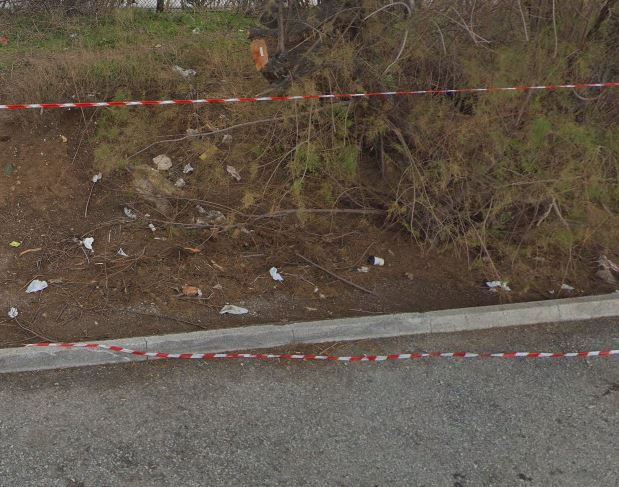trash: (247, 31, 276, 72), (479, 272, 514, 295), (217, 299, 252, 319), (74, 228, 98, 256), (23, 275, 51, 297), (149, 152, 174, 173), (172, 61, 198, 79), (267, 261, 283, 284), (364, 253, 388, 268), (5, 302, 20, 322), (7, 239, 22, 249)
